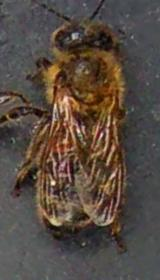varroa_mite: (35, 126, 79, 156)
